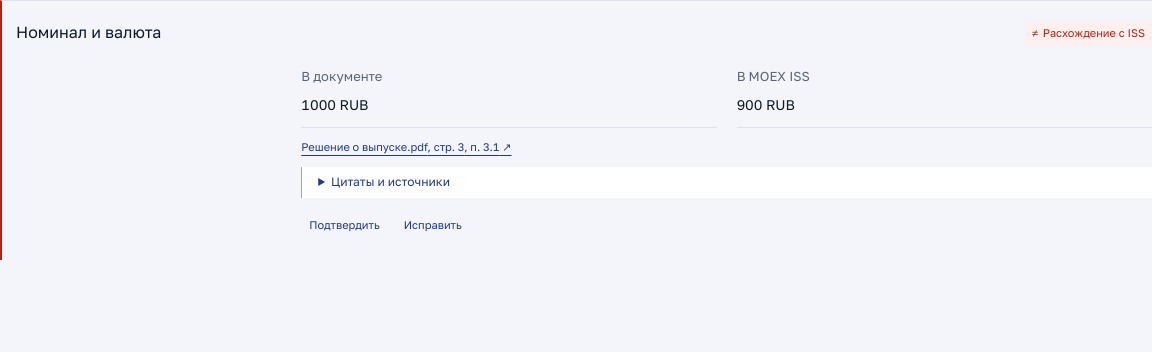
Test: Поле карточки › подтверждает без user_value и показывает ошибку сохранения
Click the button "Подтвердить": (345, 225) [301,210,388,240]
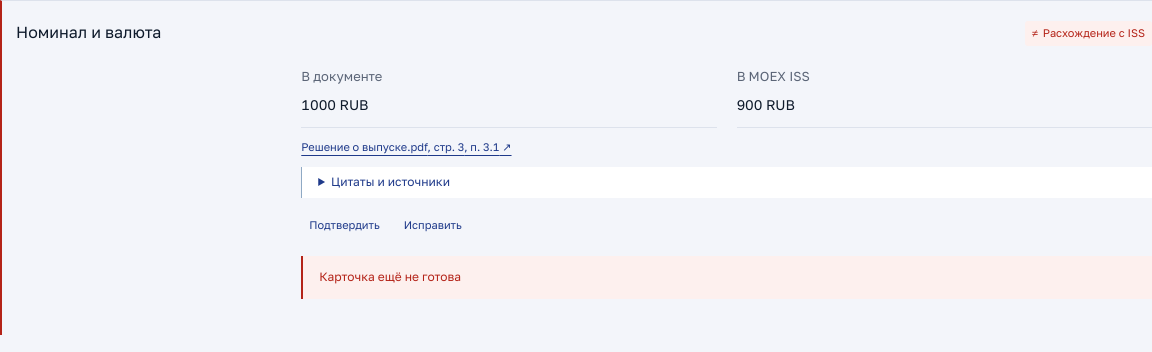
Result: the message reads "Карточка ещё не готова" at [319,269,461,284]
